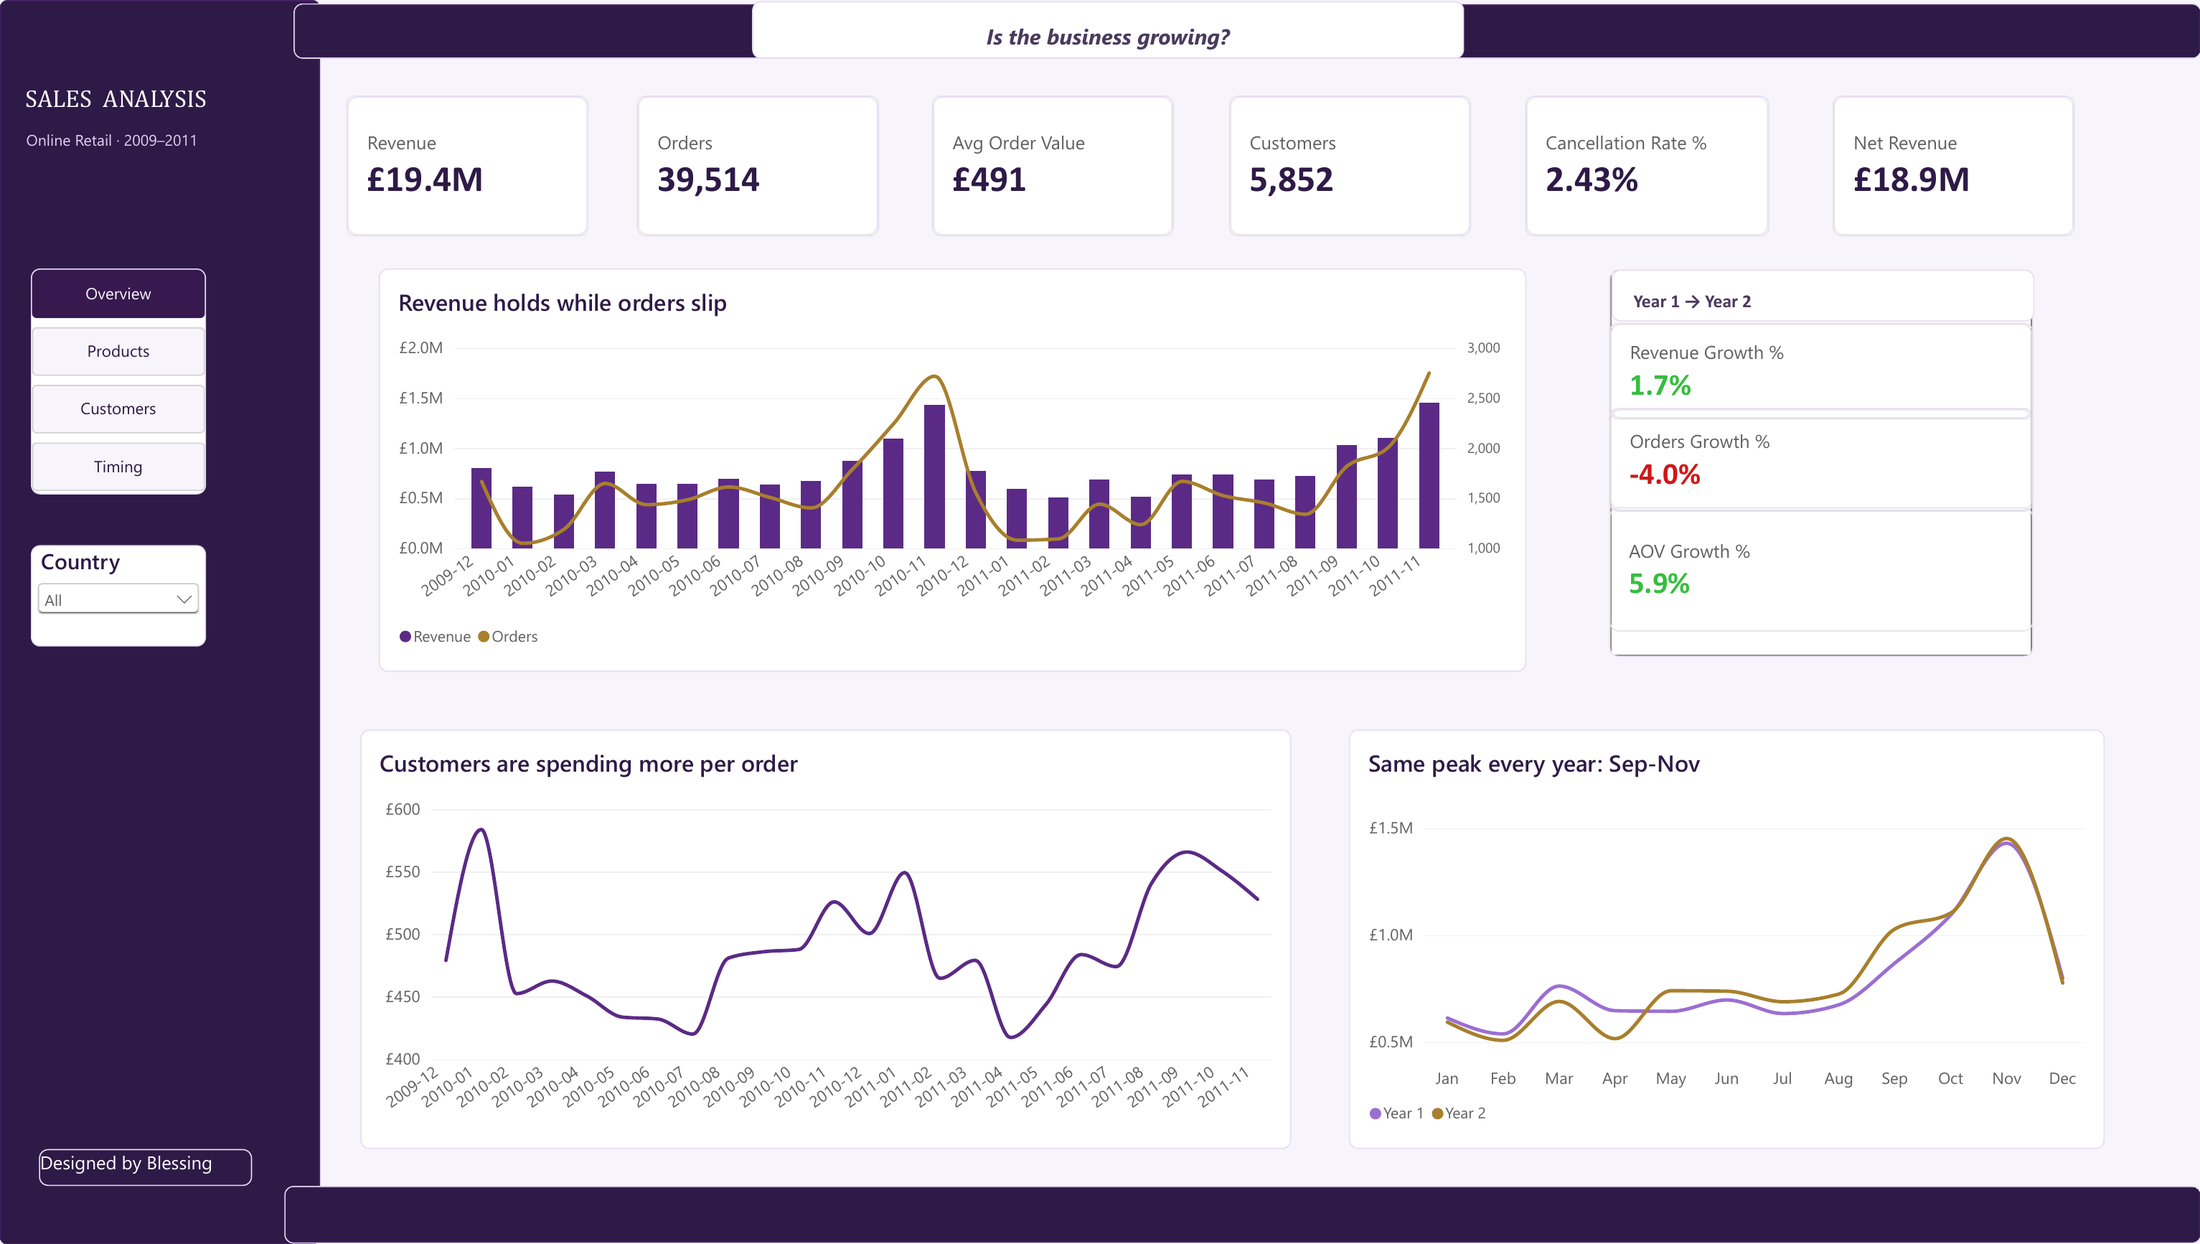

This screenshot's page, from the dashboard's own definition file:
{"tool":"powerbi","page":{"name":"Overview","canvas":[1920,1080],"ordinal":0},"visuals":[{"type":"shape","box":[8,0,280,1082],"z":0},{"type":"pageNavigator","box":[36,234,152,196],"z":1000},{"type":"textbox","box":[0,74,220,34],"z":2000},{"type":"textbox","box":[8,114,196.7,26.7],"z":3000},{"type":"shape","box":[1406.4,235.2,368,336],"z":4000},{"type":"lineClusteredColumnComboChart","title":"Revenue holds while orders slip","fields":{"Category":["Calendar.Year-Month"],"Y":["_Measures.Revenue"],"Y2":["_Measures.Orders"]},"box":[338,234,996,350],"z":5000},{"type":"cardVisual","fields":{"Data":["_Measures.Revenue Growth %"]},"box":[1406.4,281.2,368,84],"z":6000},{"type":"cardVisual","fields":{"Data":["_Measures.Orders Growth %"]},"box":[1406.4,355.2,368,90],"z":7000},{"type":"cardVisual","fields":{"Data":["_Measures.AOV Growth %"]},"box":[1406.4,441.2,368,108],"z":8000},{"type":"lineChart","title":"Customers are spending more per order","fields":{"Category":["Calendar.Year-Month"],"Y":["_Measures.Avg Order Value"]},"box":[322,634,808,364],"z":9000},{"type":"lineChart","title":"Same peak every year: Sep-Nov","fields":{"Category":["Calendar.Month"],"Series":["Calendar.Period"],"Y":["_Measures.Revenue"]},"box":[1180,634,656,364],"z":10000},{"type":"slicer","fields":{"Values":["Sales.country"]},"box":[36,474,152,88],"z":11000},{"type":"shape","box":[264,4,1656,48],"z":12000},{"type":"shape","box":[255.7,1030,1664.3,50],"z":13000},{"type":"textbox","box":[42.5,997.5,185,32.5],"z":14000},{"type":"textbox","box":[662,2,617.5,50],"z":15000},{"type":"cardVisual","fields":{"Data":["_Measures.Revenue"]},"box":[310.4,83.6,210,122.9],"z":16000},{"type":"cardVisual","fields":{"Data":["_Measures.Orders"]},"box":[561.8,83.6,210,122.9],"z":17000},{"type":"cardVisual","fields":{"Data":["_Measures.Avg Order Value"]},"box":[817.5,83.6,210,122.9],"z":18000},{"type":"cardVisual","fields":{"Data":["_Measures.Customers"]},"box":[1076.1,83.6,210,122.9],"z":19000},{"type":"cardVisual","fields":{"Data":["_Measures.Cancellation Rate %"]},"box":[1333.2,83.6,211.4,122.9],"z":20000},{"type":"cardVisual","fields":{"Data":["_Measures.Net Revenue"]},"box":[1600.4,83.6,210,122.9],"z":21000},{"type":"textbox","box":[1407.5,235,367.5,45],"z":22000}]}

Visuals, with their boxes in screenshot pixels (x1, y1, x2, y2), scaled from the page's 1920x1080 canvas onto the 2200x1244 screenshot:
shape: [left=9, top=0, right=330, bottom=1243]
pageNavigator: [left=41, top=270, right=215, bottom=495]
textbox: [left=0, top=85, right=252, bottom=124]
textbox: [left=9, top=131, right=235, bottom=162]
shape: [left=1612, top=271, right=2033, bottom=658]
"Revenue holds while orders slip" lineClusteredColumnComboChart: [left=387, top=270, right=1529, bottom=673]
cardVisual - _Measures.Revenue Growth %: [left=1612, top=324, right=2033, bottom=421]
cardVisual - _Measures.Orders Growth %: [left=1612, top=409, right=2033, bottom=513]
cardVisual - _Measures.AOV Growth %: [left=1612, top=508, right=2033, bottom=633]
"Customers are spending more per order" lineChart: [left=369, top=730, right=1295, bottom=1150]
"Same peak every year: Sep-Nov" lineChart: [left=1352, top=730, right=2104, bottom=1150]
slicer - Sales.country: [left=41, top=546, right=215, bottom=647]
shape: [left=302, top=5, right=2199, bottom=60]
shape: [left=293, top=1186, right=2199, bottom=1243]
textbox: [left=49, top=1149, right=261, bottom=1186]
textbox: [left=759, top=2, right=1466, bottom=60]
cardVisual - _Measures.Revenue: [left=356, top=96, right=596, bottom=238]
cardVisual - _Measures.Orders: [left=644, top=96, right=884, bottom=238]
cardVisual - _Measures.Avg Order Value: [left=937, top=96, right=1177, bottom=238]
cardVisual - _Measures.Customers: [left=1233, top=96, right=1474, bottom=238]
cardVisual - _Measures.Cancellation Rate %: [left=1528, top=96, right=1770, bottom=238]
cardVisual - _Measures.Net Revenue: [left=1834, top=96, right=2074, bottom=238]
textbox: [left=1613, top=271, right=2034, bottom=323]
